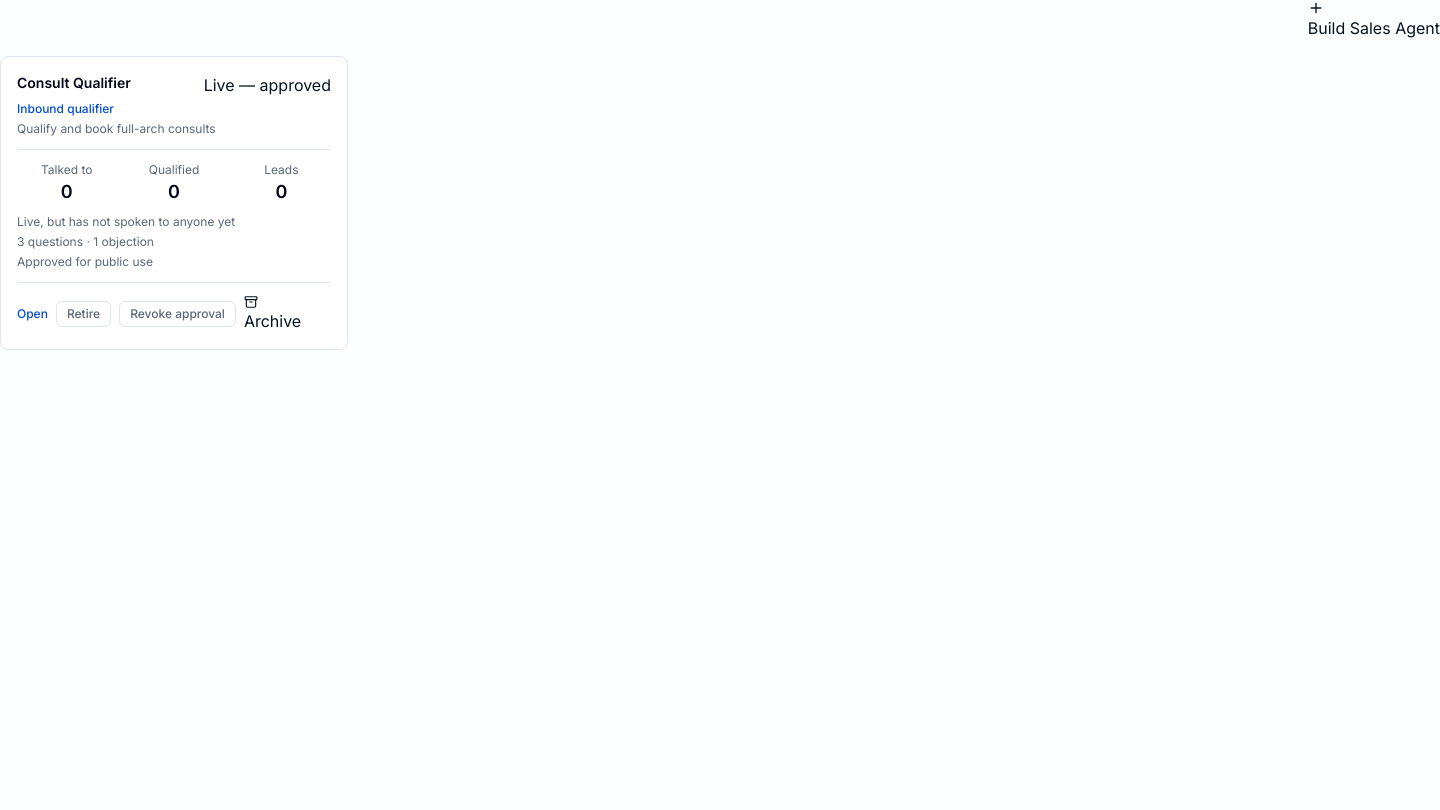
Test: briefing a sales agent › shows the runtime's refusal and stays open
Click the button "Build Sales Agent".
click(1374, 20)  # box x1=1308 y1=0 x2=1439 y2=40
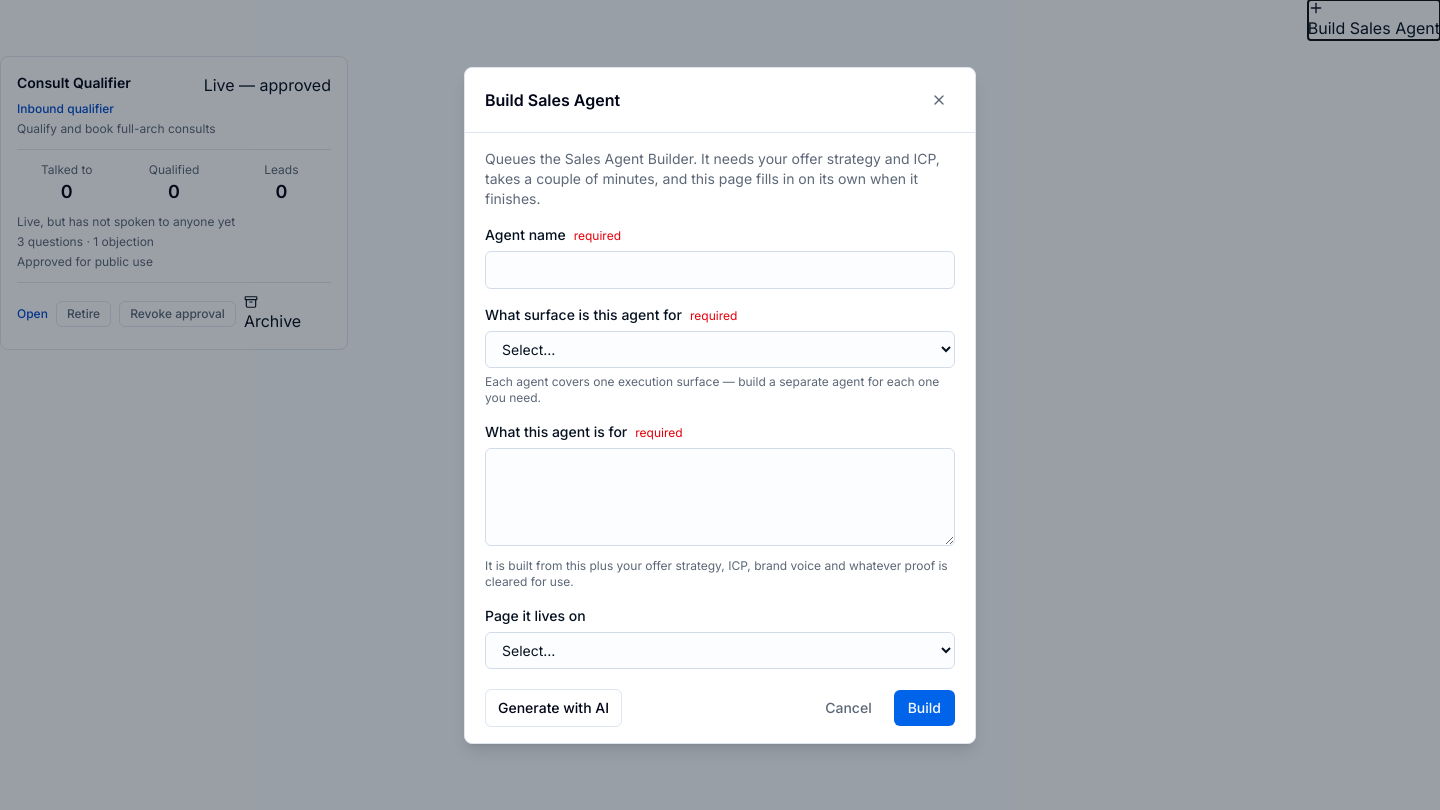
Click the button "Generate with AI".
click(554, 708)  # box x1=485 y1=688 x2=622 y2=726
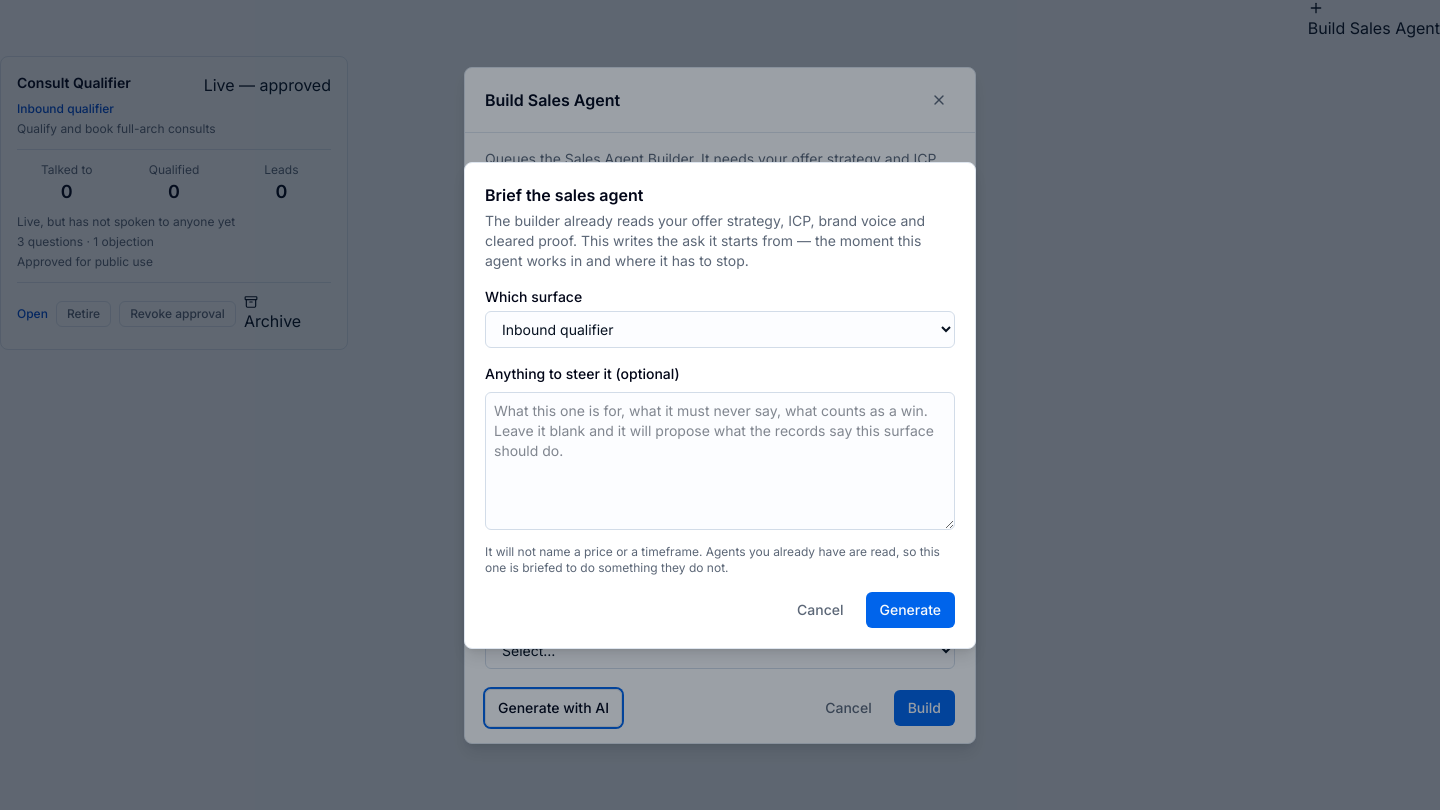
Click the button "Generate".
click(910, 610)  # box x1=866 y1=592 x2=955 y2=628
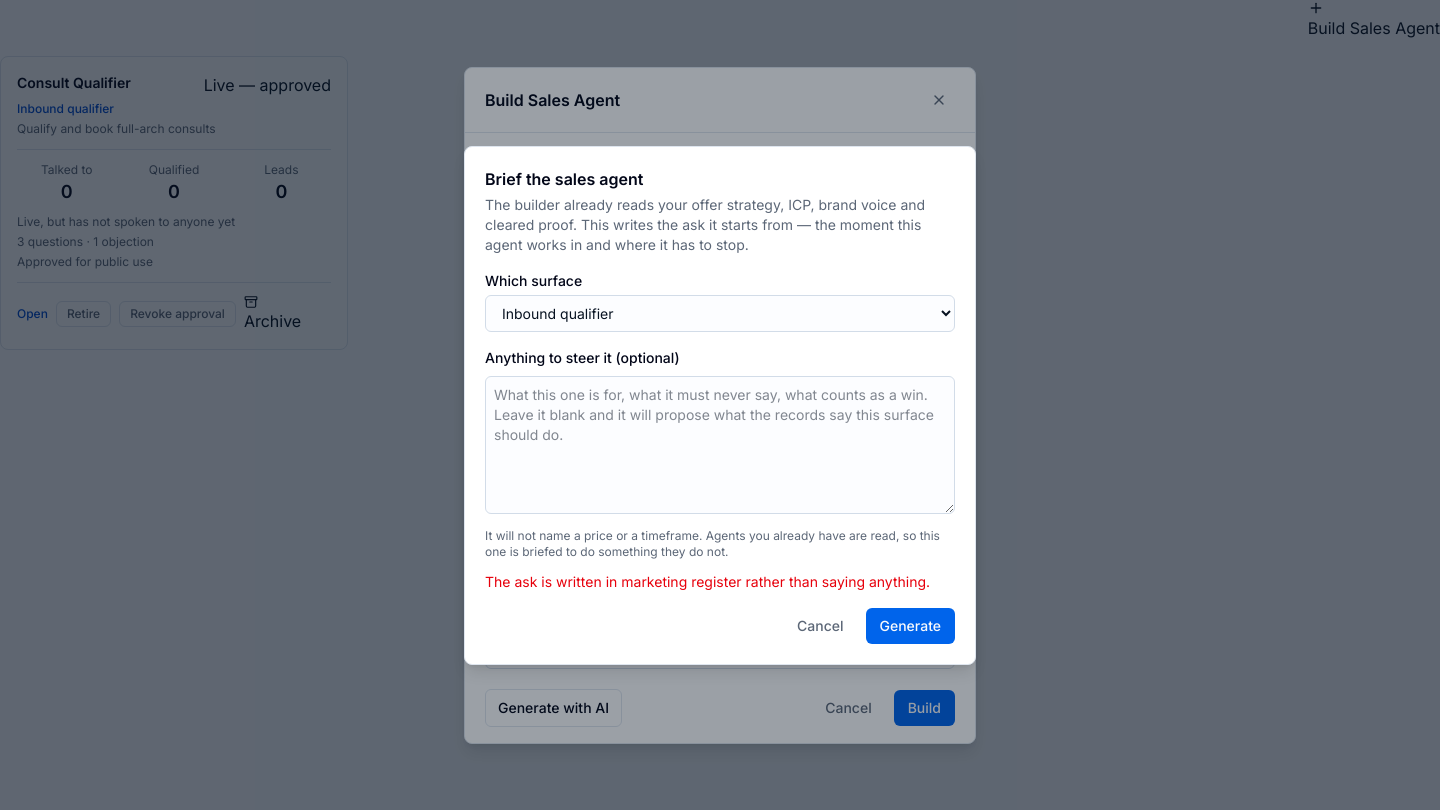
Check: the message shows "marketing register", box x1=485 y1=572 x2=930 y2=590
